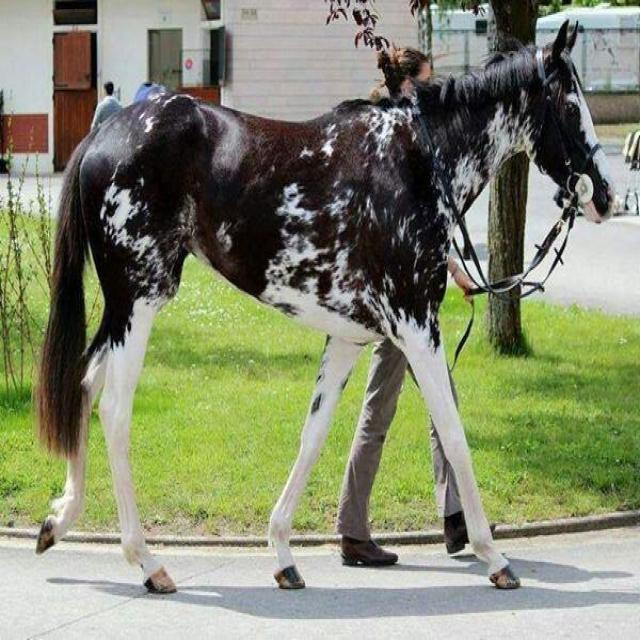horse: (33, 18, 614, 594)
